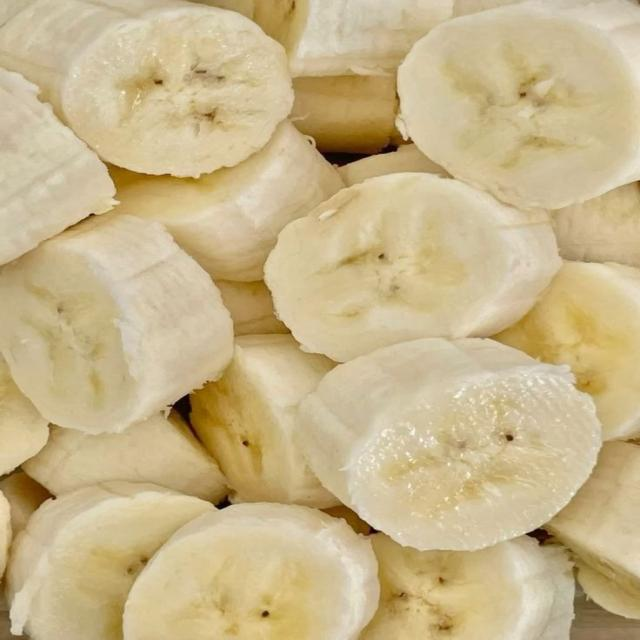banana slice: (297, 339, 600, 550), (265, 173, 560, 361), (0, 0, 293, 176), (0, 214, 233, 433), (399, 0, 639, 208), (113, 122, 343, 281), (124, 503, 379, 639), (7, 483, 214, 639), (494, 262, 639, 439), (191, 335, 339, 508), (360, 534, 573, 639), (0, 70, 115, 264), (23, 412, 226, 503), (545, 442, 639, 617), (254, 0, 453, 76), (292, 74, 399, 153), (553, 183, 639, 266), (0, 357, 48, 475), (338, 144, 447, 186), (216, 280, 288, 335), (536, 546, 575, 639), (577, 563, 639, 619), (0, 472, 52, 536), (323, 505, 372, 535), (454, 0, 524, 17), (192, 0, 256, 18), (0, 492, 12, 578), (0, 0, 32, 26)
